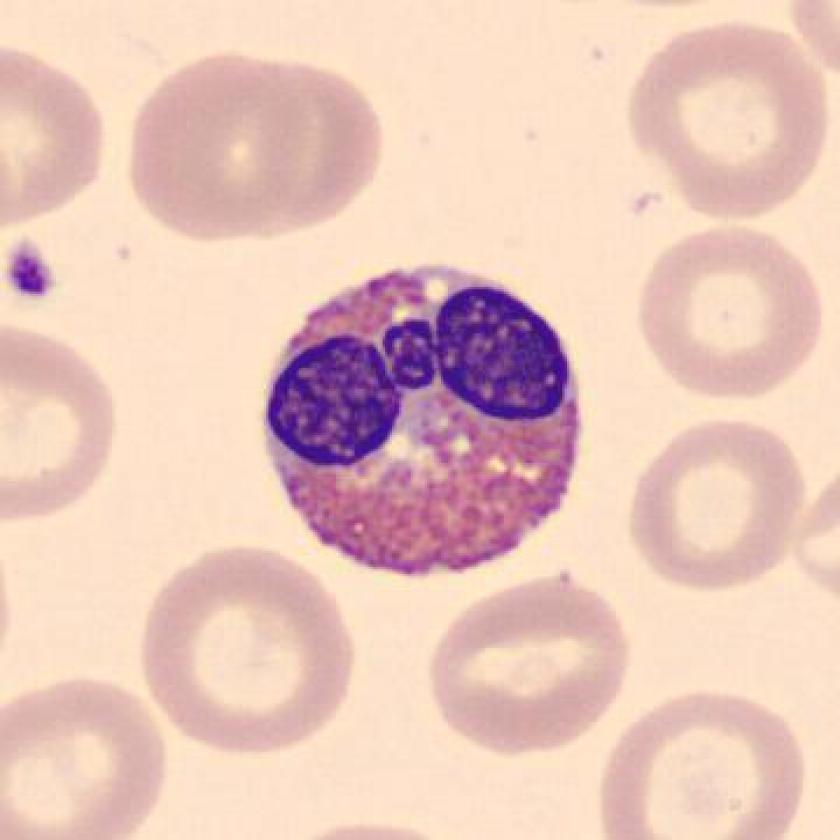eosinophil: (253, 253, 594, 591)
